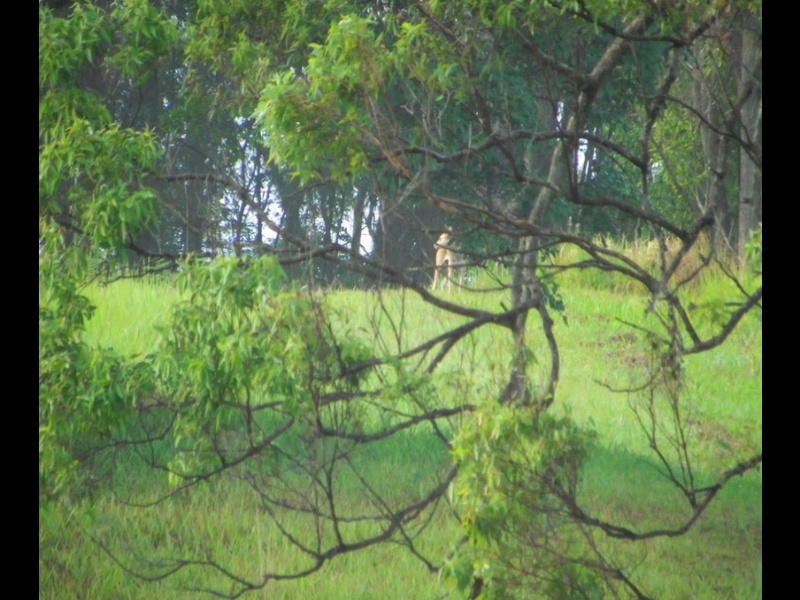dog: (425, 228, 474, 297)
